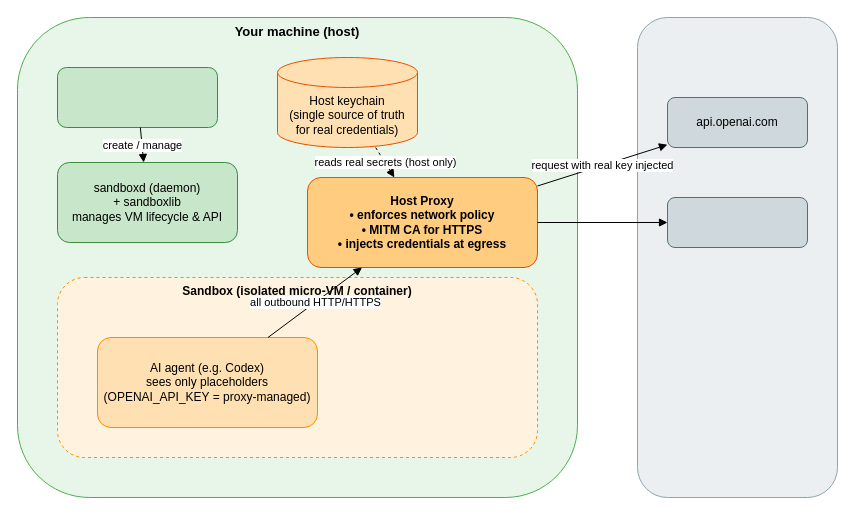
This 855x515 diagram has some shape labels left out. Each missing label, with the box of its shape:
api.github.com: (666, 196, 808, 248)
Developer (sbx CLI / dashboard): (56, 66, 218, 128)
Internet: (636, 16, 838, 498)
